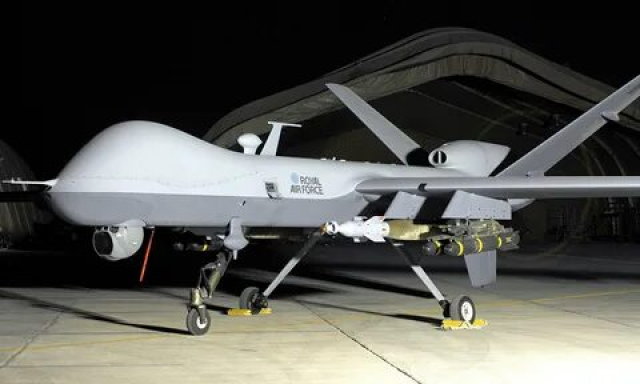military drone: (0, 73, 640, 335)
